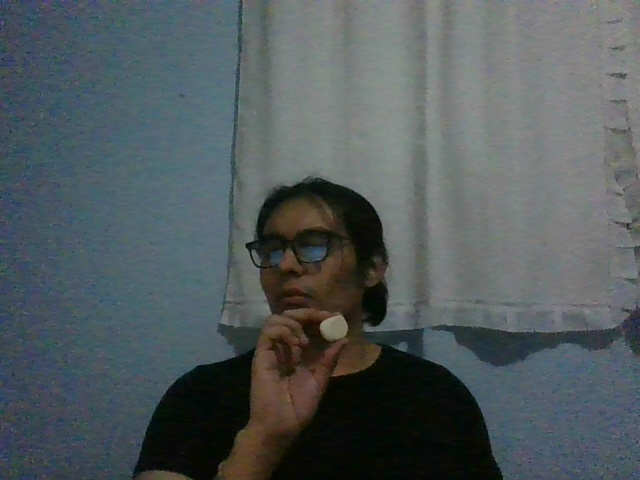goma: (319, 315, 349, 342)
